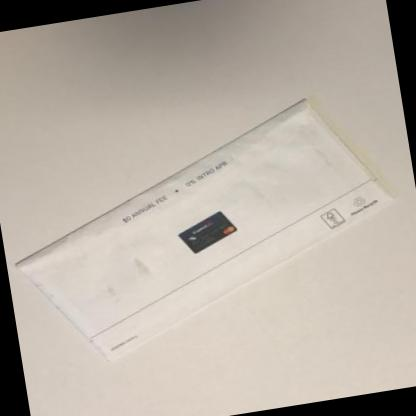Paper: (15, 98, 392, 359)
